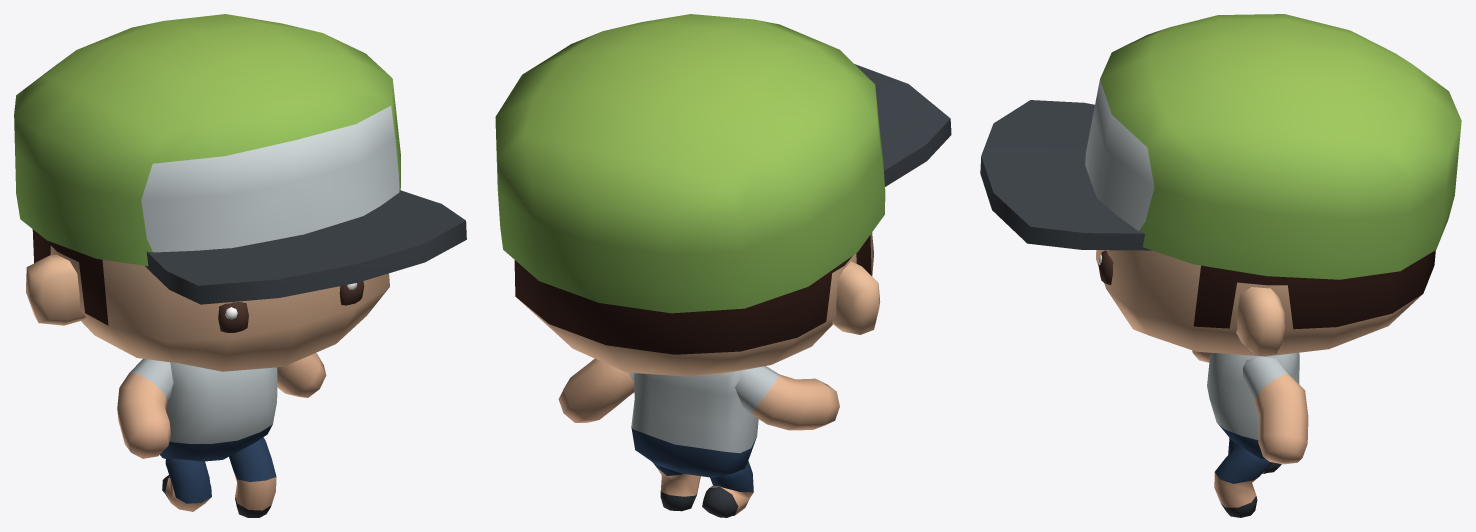
The model's file is run_0004.obj.
3 renders of one model, left to right at view 1: azimuth 30°, elevation 25°; view 2: azimuth 150°, elevation 25°; view 3: azimuth 270°, elevation 25°, orthographic. The views are drawn at different scales.
Visible parts, largest first — view 1: Object_41, Object_42, Object_36, Object_44, Object_38; view 2: Object_41, Object_44, Object_36, Object_42; view 3: Object_41, Object_36, Object_42, Object_44.
Boxes of the visible parts, x1,y1,x2,y2 form: Object_41: (14, 14, 400, 266); Object_42: (141, 106, 466, 304); Object_36: (26, 229, 389, 371); Object_44: (117, 353, 326, 517); Object_38: (218, 281, 364, 332); Object_41: (495, 14, 885, 313); Object_44: (558, 358, 839, 517); Object_36: (514, 232, 880, 376); Object_42: (855, 64, 951, 186); Object_41: (1100, 14, 1461, 279); Object_36: (1096, 250, 1435, 356); Object_42: (980, 80, 1154, 250); Object_44: (1192, 350, 1308, 517).
Size of the model in its own units: 0.9691 by 1.2 by 1.14.
